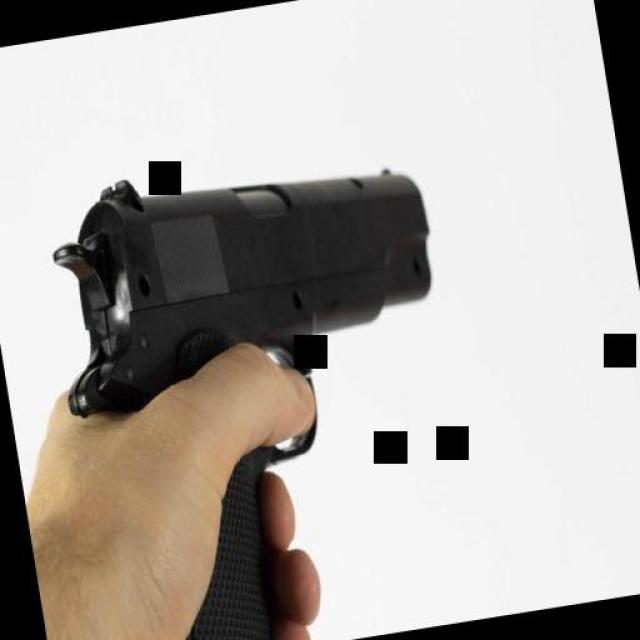gun: (31, 129, 491, 640)
